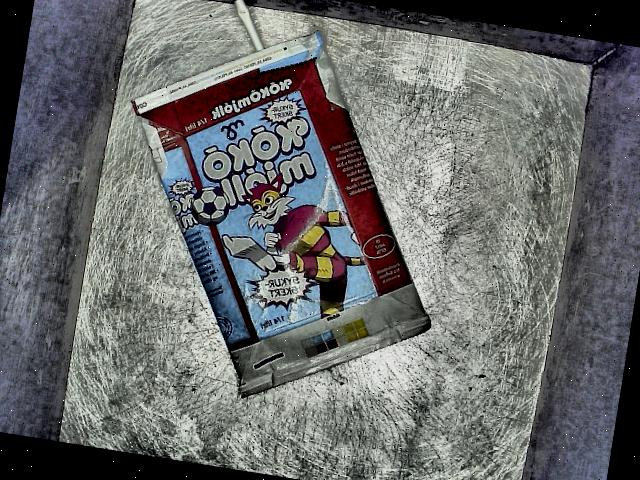Paper: (91, 0, 486, 430)
